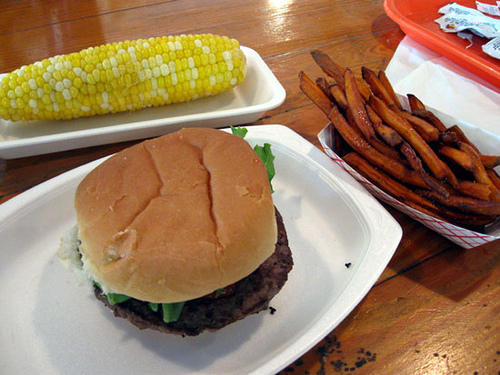corn: (0, 32, 245, 121)
